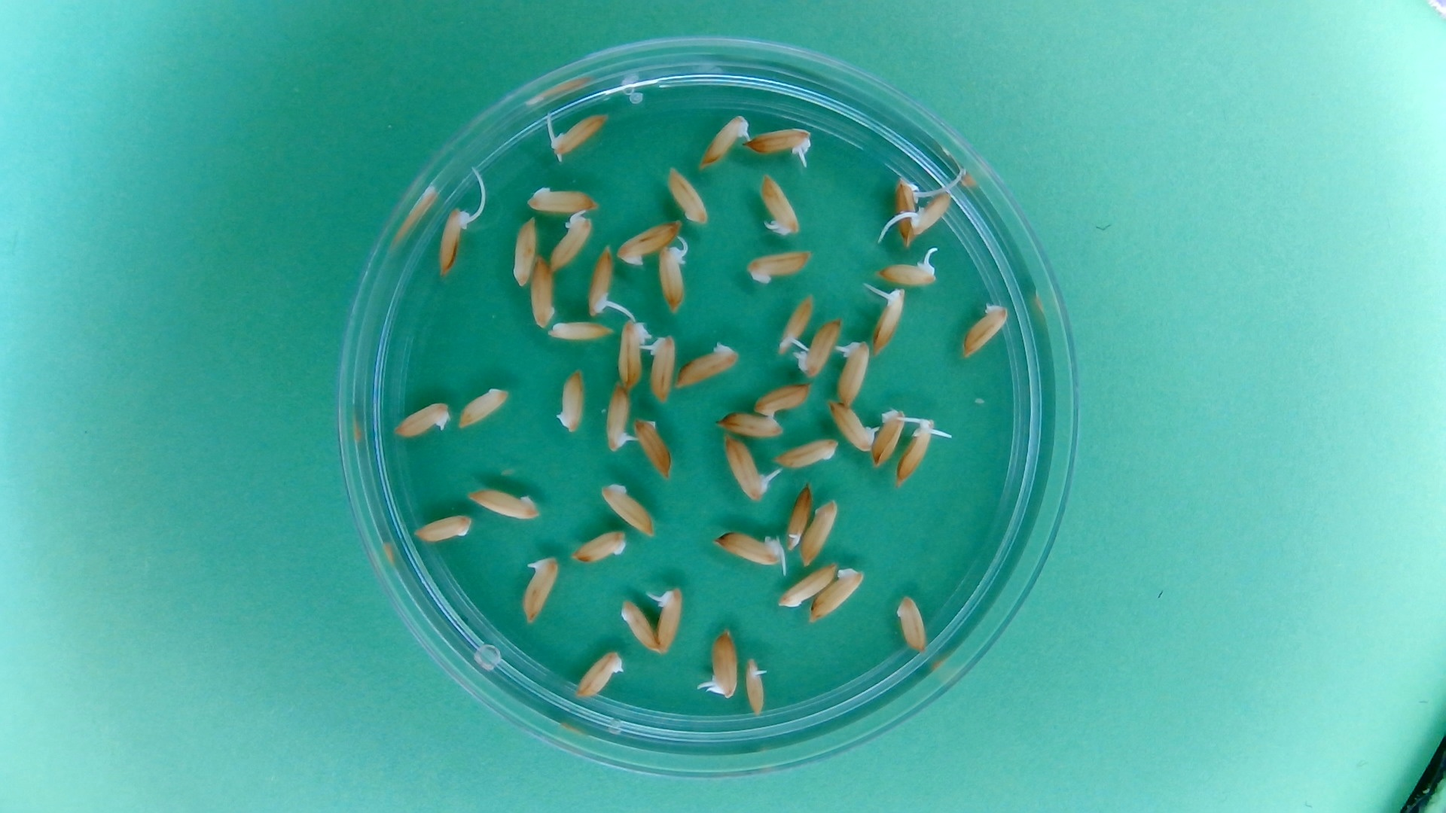no: (807, 564, 867, 625), (673, 338, 742, 390), (599, 479, 657, 538), (615, 217, 682, 266), (959, 300, 1011, 361), (776, 561, 839, 609), (795, 315, 842, 379), (631, 414, 675, 482), (798, 497, 840, 568), (665, 164, 712, 226), (465, 484, 541, 522), (572, 648, 626, 701), (743, 248, 814, 286), (524, 181, 601, 216), (455, 384, 511, 431), (551, 364, 588, 435), (617, 596, 660, 655), (615, 316, 650, 388), (392, 399, 452, 440), (770, 435, 840, 470), (871, 406, 909, 470), (751, 381, 815, 419), (784, 477, 815, 554), (528, 251, 558, 330), (893, 592, 930, 655), (714, 407, 786, 439), (567, 528, 629, 565), (508, 214, 538, 288), (410, 511, 474, 544), (546, 316, 615, 343)
yes: (721, 434, 770, 502), (697, 113, 752, 171), (895, 417, 938, 486), (758, 171, 801, 238), (519, 553, 560, 623), (548, 211, 594, 273), (718, 531, 789, 571), (549, 112, 609, 158), (827, 399, 877, 452), (870, 285, 907, 356), (643, 333, 679, 405), (775, 291, 815, 355), (704, 627, 739, 699), (834, 338, 871, 406), (908, 187, 953, 242), (650, 584, 685, 653), (436, 206, 470, 277), (586, 242, 618, 317), (875, 251, 941, 287), (745, 126, 813, 160), (657, 242, 689, 314), (602, 382, 633, 455), (890, 175, 920, 245), (743, 656, 770, 716)
